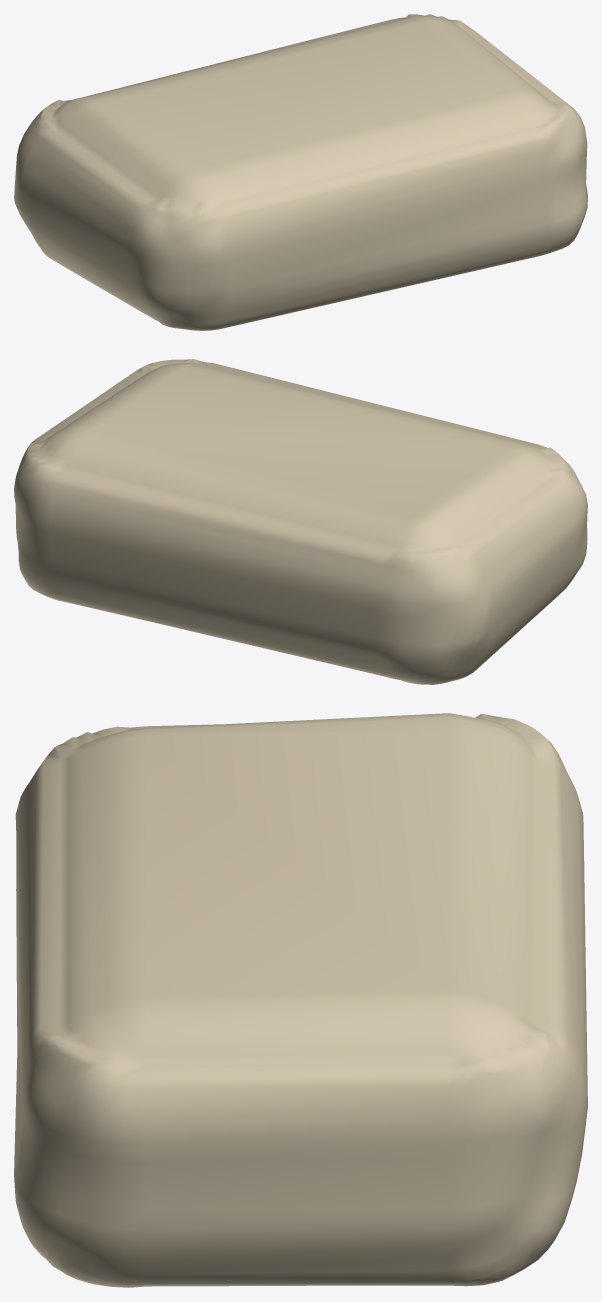
Rendered from fps-weapon-set-and-firing-range-sandbag-rest-31f6a8b3__19511.glb.
The picture shows the model from 3 angles, top to bottom: view 1: azimuth 30°, elevation 25°; view 2: azimuth 150°, elevation 25°; view 3: azimuth 270°, elevation 25°; orthographic projection. The views are drawn at different scales.
Visible parts, largest first — view 1: sandbag-rest; view 2: sandbag-rest; view 3: sandbag-rest.
Part boxes in pixels (x1,y1,x2,y2): sandbag-rest: (14, 14, 587, 330); sandbag-rest: (14, 359, 587, 684); sandbag-rest: (14, 713, 587, 1287).
Bounding box in the file's own units: 0.5068 × 0.1674 × 0.3206.
